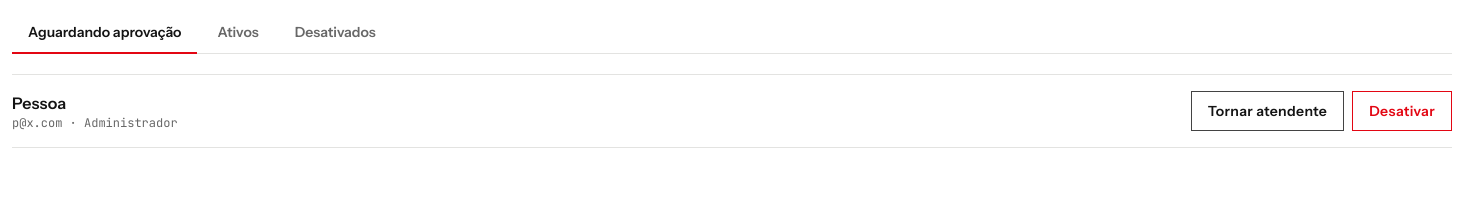
UsersTable › shows the LAST_ADMIN message from the API
What coordinates should you click on to do the following:
click the tab "Ativos"
I would click on:
 (238, 33)
Its box is [202,12,275,54].
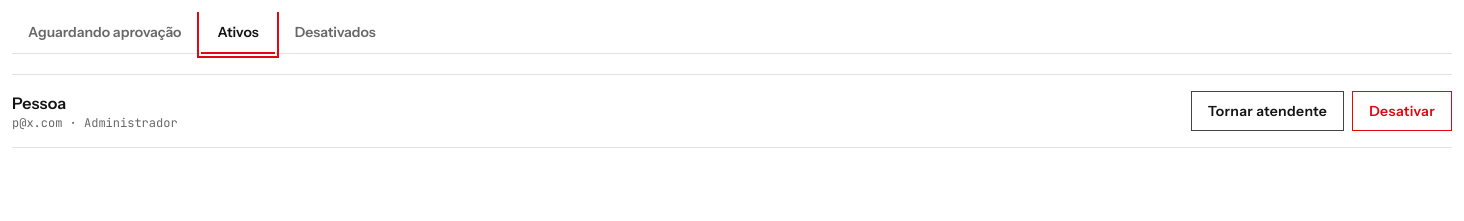
What coordinates should you click on to do the following:
click the button "Tornar atendente"
I would click on:
 (1268, 111)
Its box is [1191,91,1344,131].
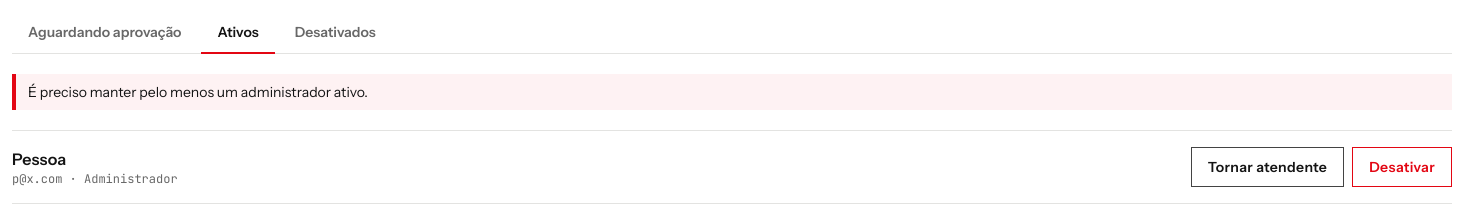
Result: the message reads "É preciso manter pelo menos um administrador ativo." at [28,83,368,101]
